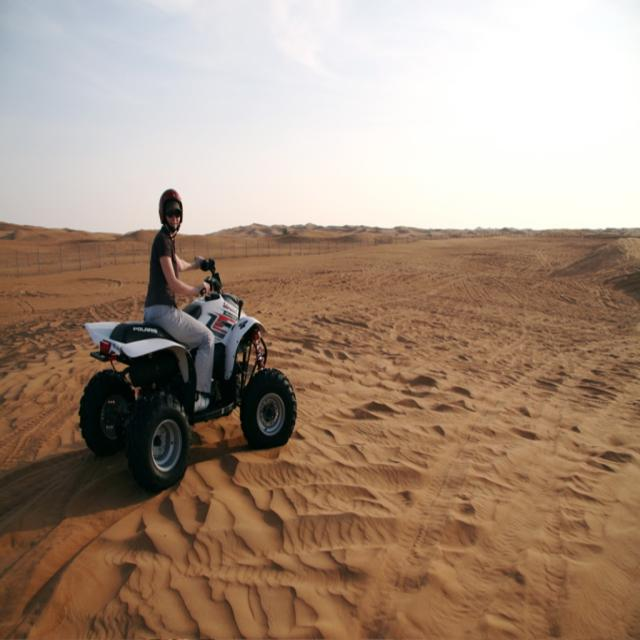car: (79, 254, 295, 482)
